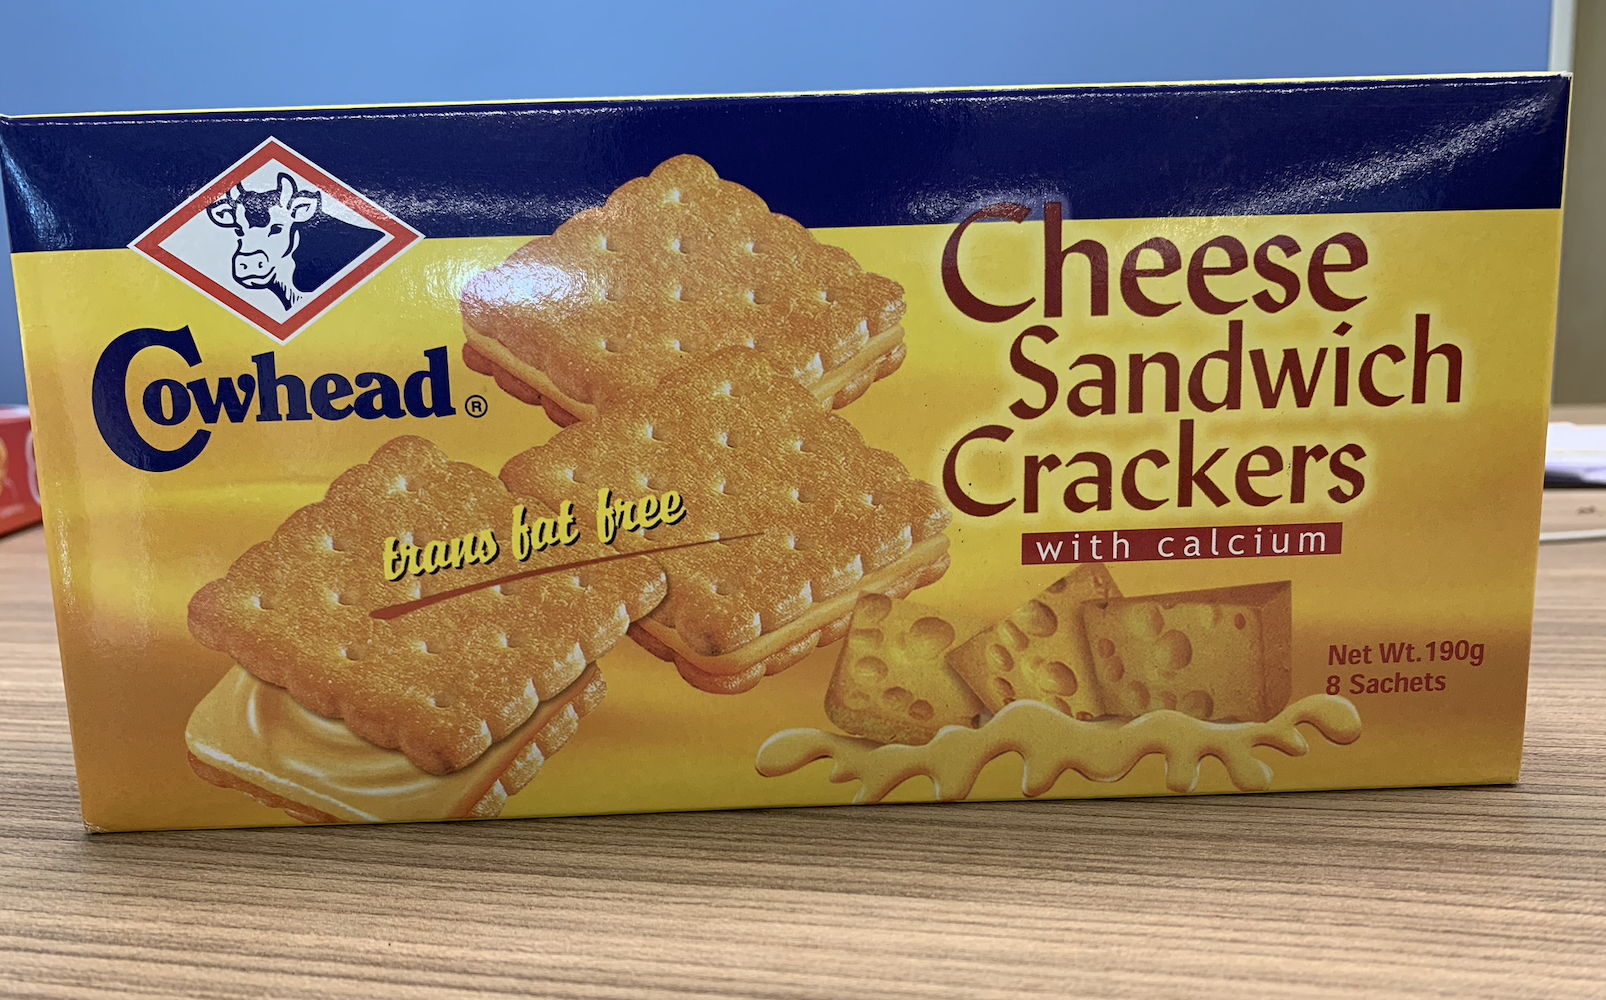crackers_100g-199g: (76, 141, 1517, 782)
